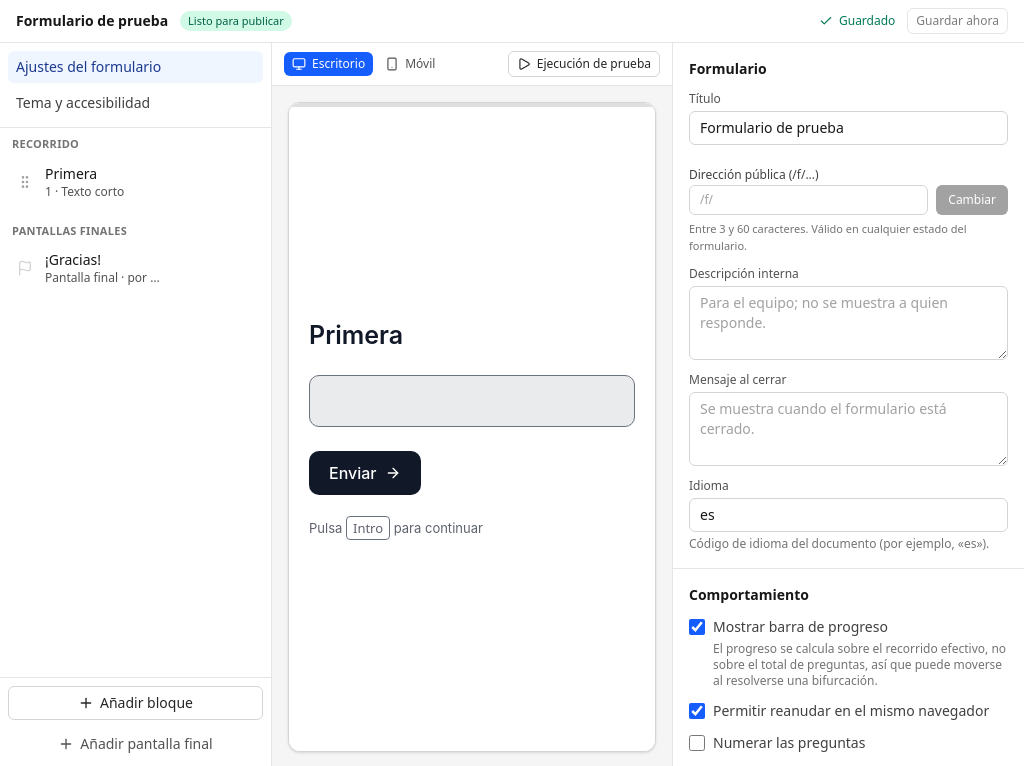
Scenario: construir un formulario › escribir el título se refleja de inmediato en la previsualización
This screenshot has width=1036, height=766.
Click the button "Primera 1 · Texto corto" at (88, 182), box [41,162,134,202]
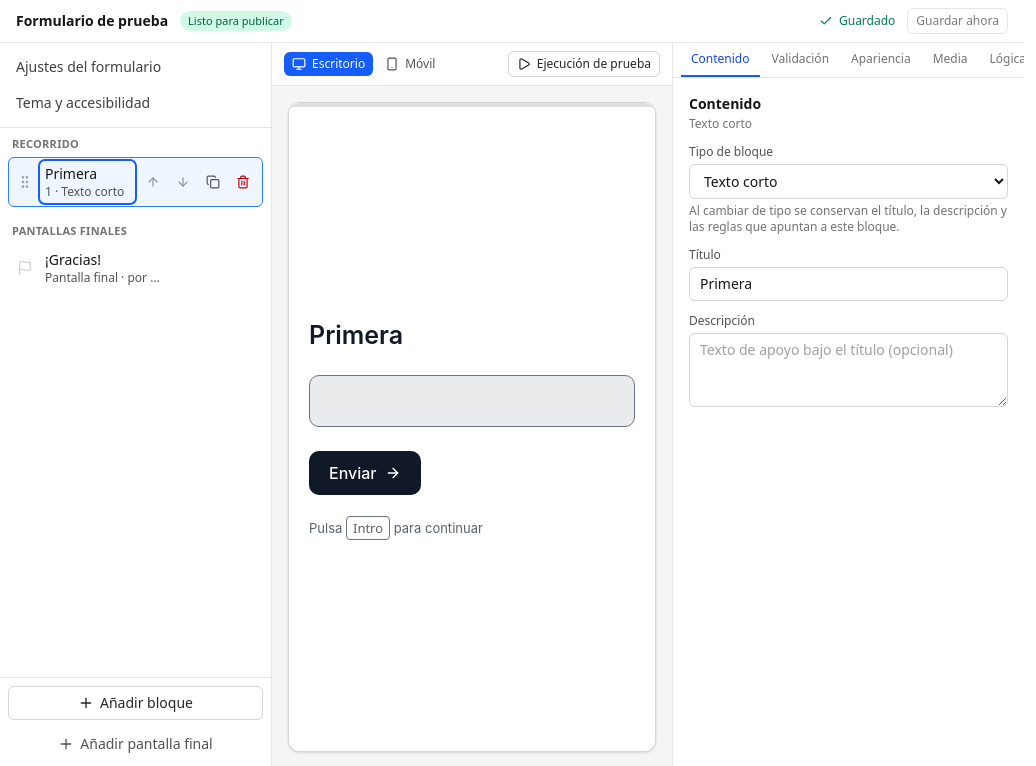
Replace the text in the field labelled "Título" with "¿Cómo te llamas?" at (848, 284), box [689,267,1008,301]
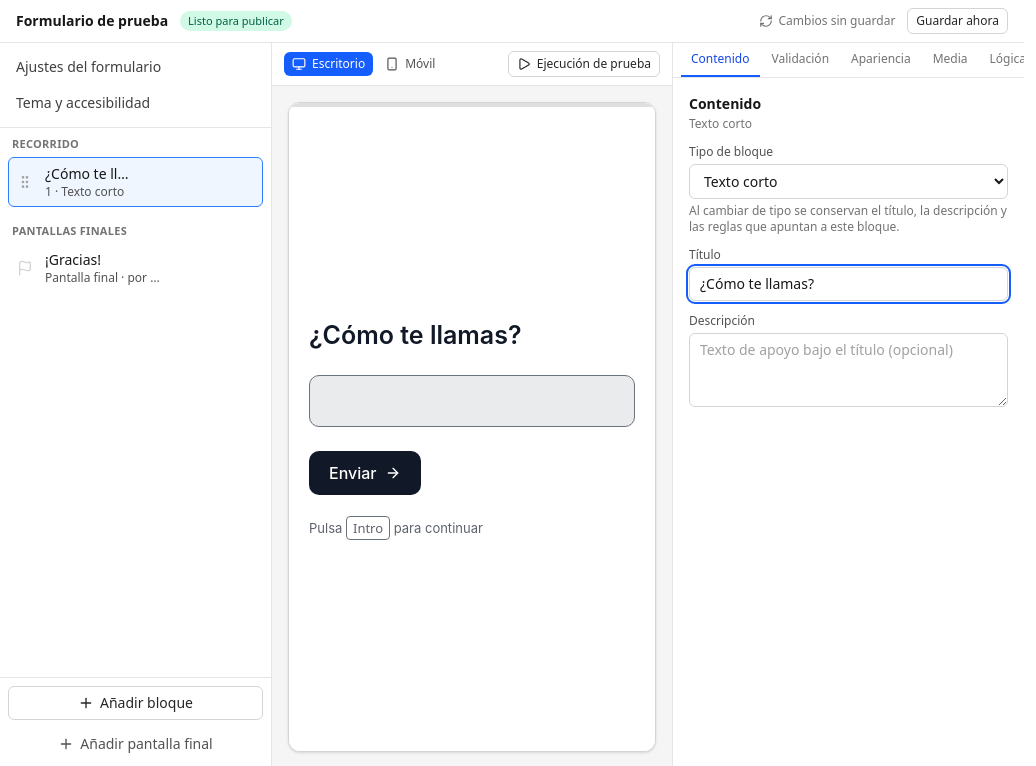
Expected: the text "¿Cómo te llamas?" is shown, [45,164,130,184]
